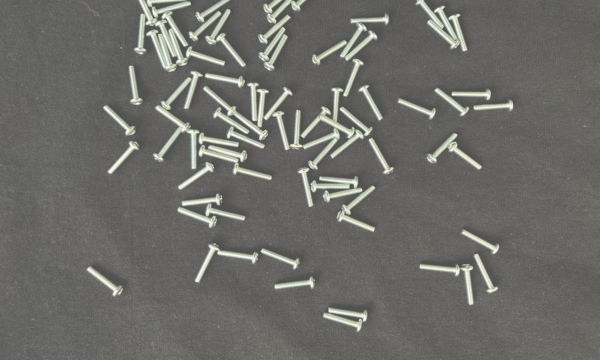longscrew: (86, 264, 125, 300), (231, 108, 269, 141), (258, 245, 303, 272), (425, 131, 460, 165), (107, 140, 141, 175), (176, 161, 217, 190), (101, 104, 137, 137), (153, 125, 184, 163), (473, 252, 500, 295), (160, 76, 193, 111), (188, 10, 223, 43), (257, 13, 293, 45), (263, 86, 295, 122), (216, 32, 248, 68), (434, 87, 471, 118), (194, 243, 221, 285), (299, 106, 332, 140), (460, 228, 500, 256), (339, 106, 374, 138), (426, 19, 461, 51), (344, 30, 379, 62), (339, 22, 369, 59), (154, 104, 192, 133), (357, 83, 385, 122), (202, 85, 237, 116), (369, 137, 396, 177), (448, 142, 484, 172), (161, 12, 190, 49), (311, 38, 349, 66), (212, 107, 250, 135), (342, 186, 377, 216), (330, 130, 365, 160), (258, 26, 287, 62), (175, 206, 218, 230), (206, 8, 233, 46), (308, 138, 339, 171), (225, 126, 267, 150), (397, 96, 437, 121), (434, 4, 460, 42), (264, 34, 290, 72), (336, 210, 377, 234), (414, 0, 445, 31), (186, 45, 227, 68), (318, 114, 355, 139), (146, 29, 168, 71), (302, 127, 342, 150), (323, 311, 364, 333), (448, 12, 470, 53), (154, 19, 177, 58), (195, 0, 234, 23), (198, 144, 240, 165), (157, 32, 178, 74), (343, 59, 365, 99), (205, 203, 246, 224), (151, 0, 193, 20), (168, 27, 189, 67), (266, 0, 299, 25), (207, 144, 248, 164), (272, 110, 291, 153), (204, 71, 247, 90), (216, 248, 261, 266), (184, 71, 204, 111), (232, 162, 274, 181), (296, 167, 315, 208), (327, 306, 369, 324), (419, 262, 461, 280), (127, 65, 145, 107), (322, 187, 365, 204), (460, 262, 476, 306), (132, 0, 158, 27), (272, 277, 318, 292), (198, 132, 240, 148), (473, 98, 516, 113), (187, 128, 202, 171), (133, 13, 148, 56), (318, 175, 360, 190), (246, 80, 261, 122), (180, 193, 224, 207), (451, 87, 493, 101), (256, 87, 270, 129), (330, 86, 344, 126), (291, 109, 304, 152), (349, 13, 391, 26), (310, 180, 351, 193), (263, 0, 298, 14), (291, 0, 325, 12), (144, 0, 189, 7)
